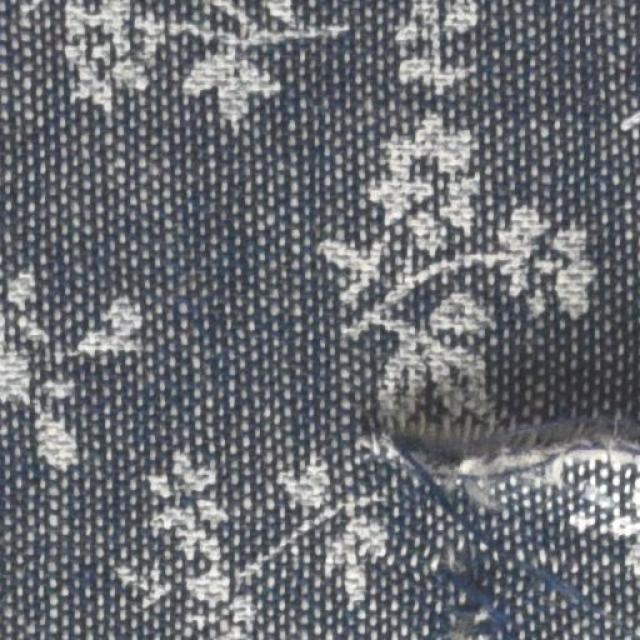Snag: (360, 410, 631, 503), (441, 546, 497, 640)
